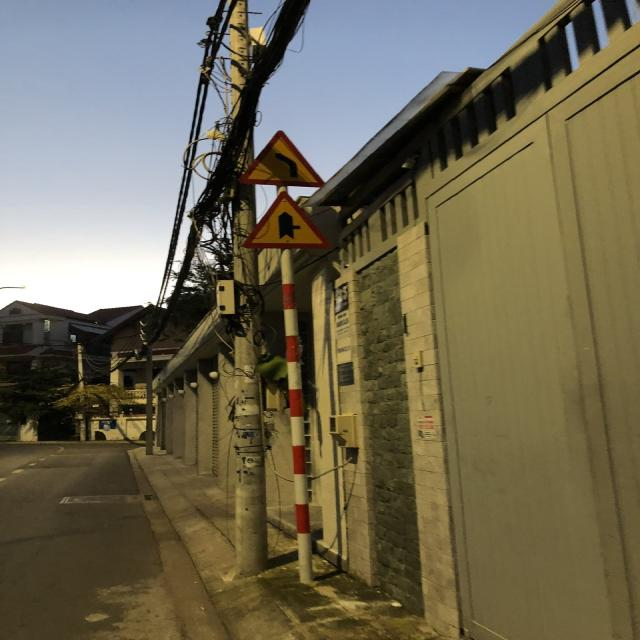Bien bao cho ngoat nguy hiem: (230, 126, 338, 191)
Bien bao giao nhau voi duong khong uu tien: (236, 189, 340, 251)
